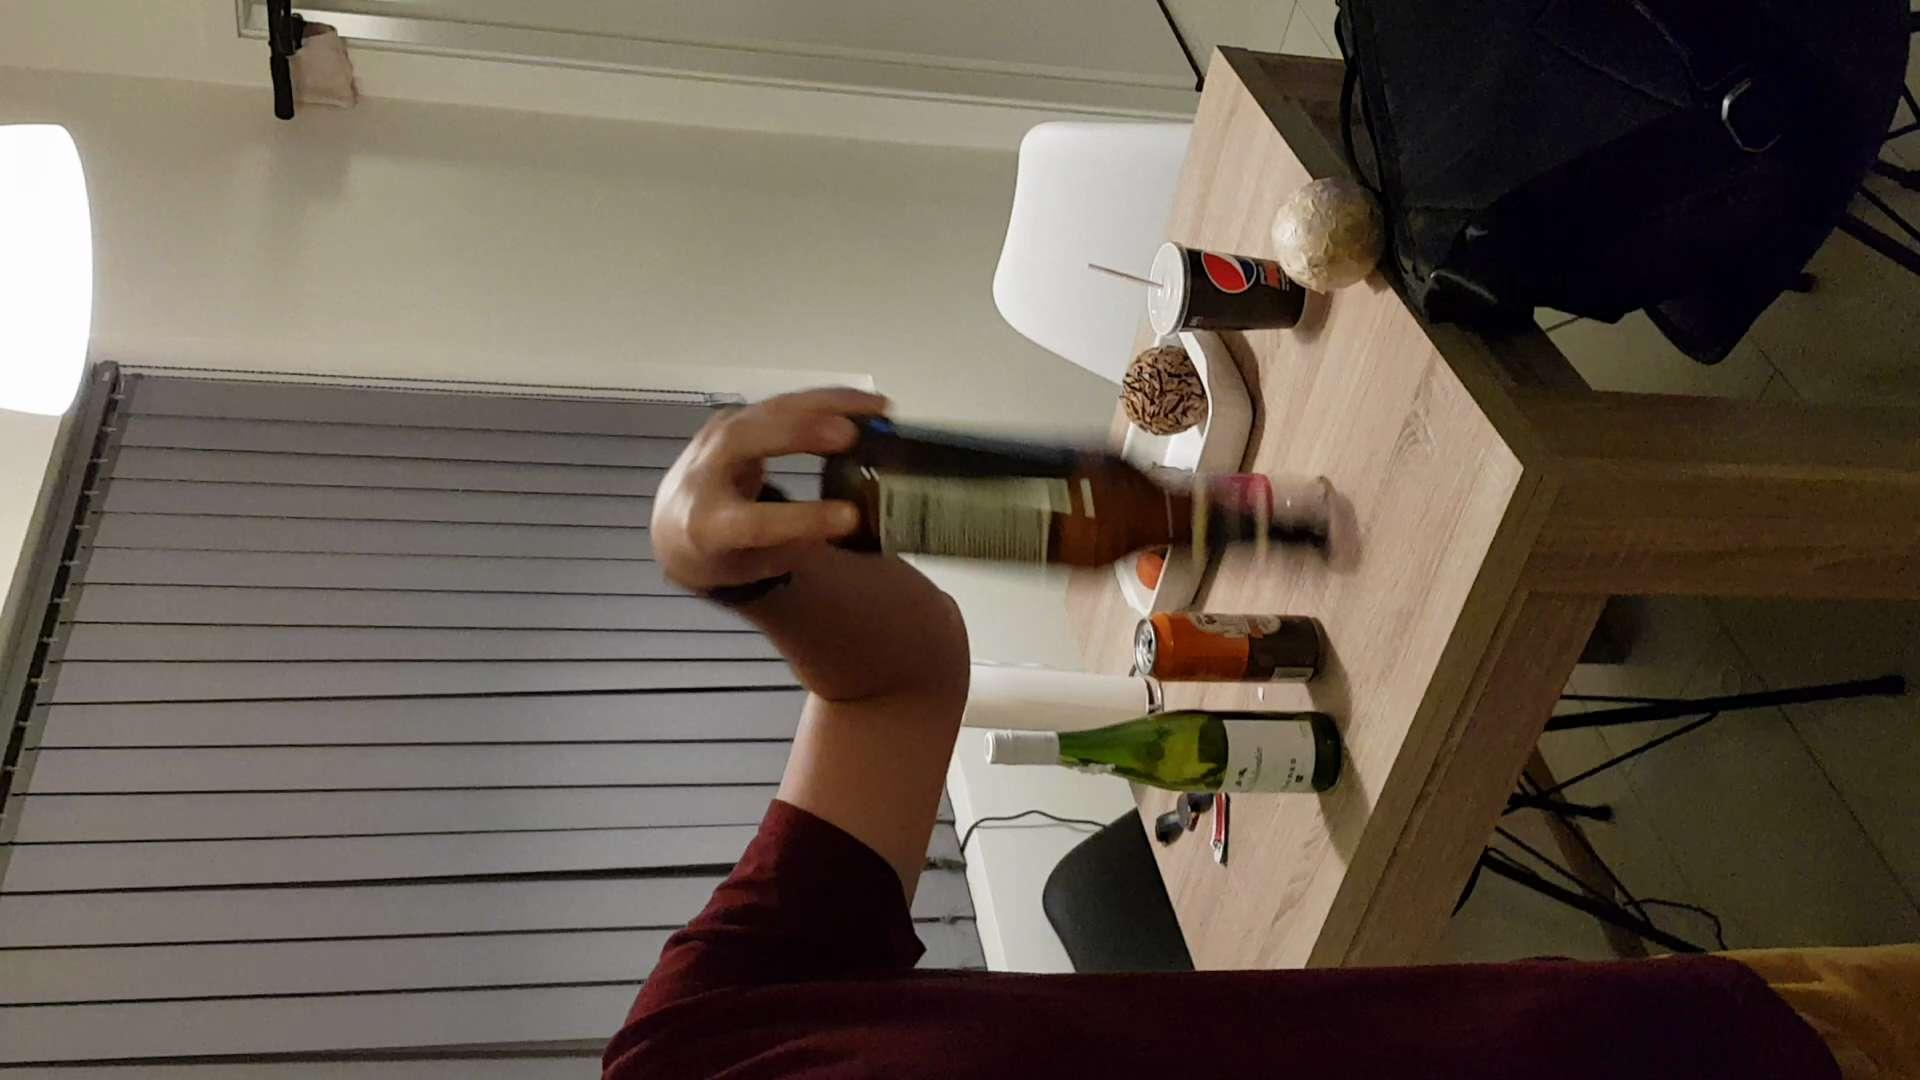Bottle: (808, 410, 1341, 575), (980, 691, 1346, 799)
Can: (1129, 603, 1328, 679)
